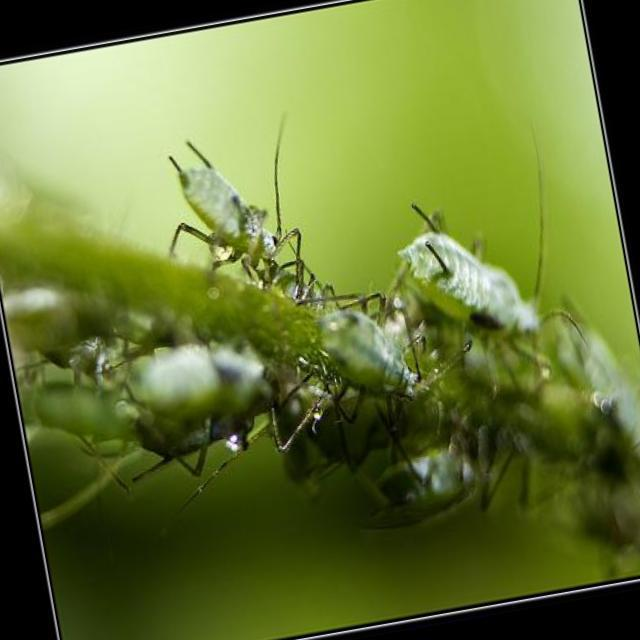aphid: (380, 138, 606, 405), (276, 266, 480, 468), (153, 123, 304, 284)
